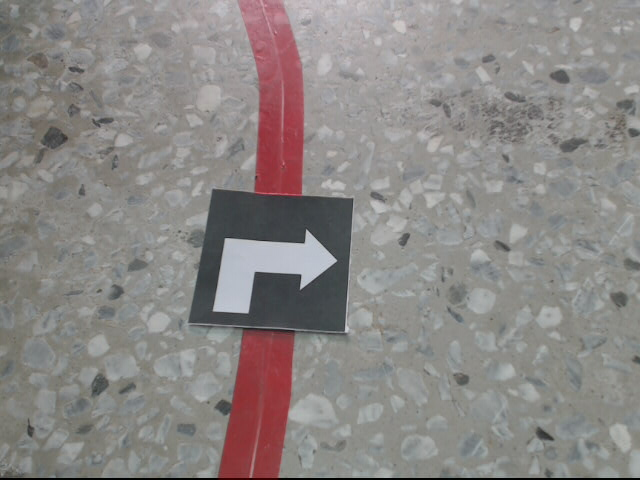right: (188, 191, 354, 335)
